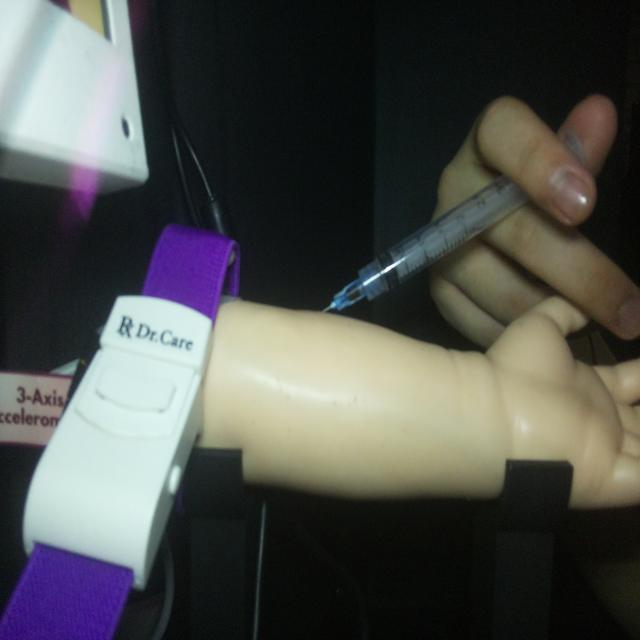24 degrees: (323, 125, 587, 313)
